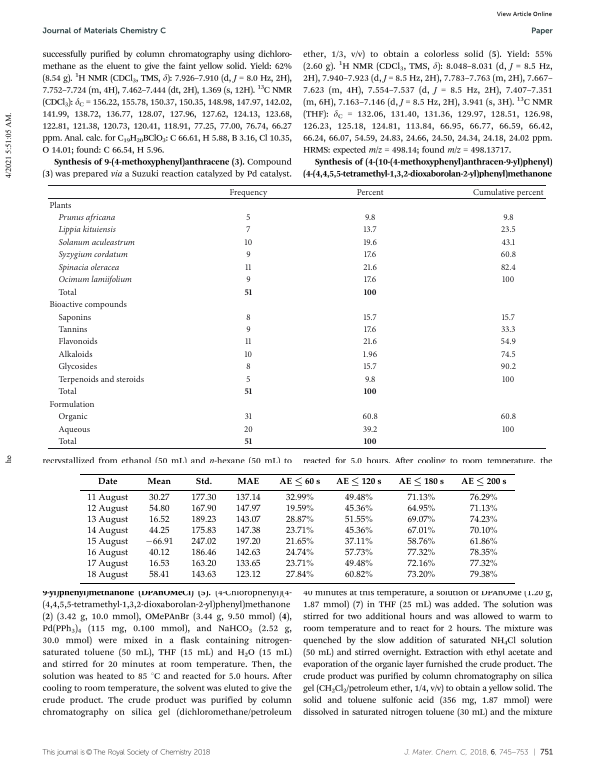borderless: (46, 183, 546, 448), (79, 472, 515, 583)
cell: (57, 374, 145, 385), (48, 299, 128, 310), (57, 237, 136, 248), (57, 274, 133, 285), (472, 187, 545, 198), (57, 250, 129, 260), (57, 262, 120, 273), (57, 212, 116, 223), (57, 225, 117, 235), (48, 399, 95, 410), (335, 477, 382, 487), (397, 477, 444, 487), (460, 477, 507, 487), (86, 493, 128, 504), (86, 504, 128, 515), (86, 515, 128, 526), (86, 526, 128, 537), (86, 537, 128, 548), (86, 548, 128, 559), (86, 559, 128, 570), (86, 570, 128, 581), (278, 477, 321, 487), (229, 187, 268, 198), (57, 337, 99, 347), (57, 362, 98, 372), (57, 349, 94, 360), (57, 424, 91, 435), (57, 411, 89, 422), (57, 312, 92, 322), (57, 324, 88, 335), (343, 493, 373, 504), (406, 493, 436, 504), (468, 493, 498, 504), (343, 504, 373, 515), (406, 504, 436, 515), (468, 504, 498, 515), (343, 515, 373, 526), (406, 515, 436, 526), (468, 515, 498, 526), (343, 526, 373, 537), (406, 526, 436, 537), (468, 526, 498, 537), (144, 537, 174, 548), (343, 537, 373, 548), (406, 537, 436, 548), (468, 537, 498, 548), (343, 548, 373, 559), (406, 548, 436, 559), (468, 548, 498, 559), (343, 559, 373, 570), (406, 559, 436, 570), (468, 559, 498, 570), (343, 570, 373, 581), (406, 570, 436, 581), (468, 570, 498, 581), (285, 493, 314, 504), (285, 504, 314, 515), (285, 515, 314, 526), (285, 526, 314, 537), (285, 537, 314, 548), (285, 548, 314, 559), (285, 559, 314, 570), (285, 570, 314, 581), (356, 187, 385, 198), (190, 493, 217, 504), (234, 493, 261, 504), (190, 504, 217, 515), (234, 504, 261, 515), (190, 515, 217, 526), (234, 515, 261, 526), (190, 526, 217, 537), (234, 526, 261, 537), (190, 537, 217, 548), (234, 537, 261, 548), (190, 548, 217, 559), (234, 548, 261, 559), (190, 559, 217, 570), (234, 559, 261, 570), (190, 570, 217, 581), (234, 570, 261, 581), (148, 493, 170, 504), (148, 504, 170, 515), (148, 515, 170, 526), (148, 526, 170, 537), (148, 548, 170, 559), (148, 559, 170, 570), (148, 570, 170, 581), (48, 200, 72, 210), (57, 287, 78, 298), (57, 436, 78, 447), (57, 387, 78, 397), (146, 477, 172, 485), (500, 262, 517, 273), (500, 349, 517, 360), (362, 411, 379, 422), (500, 411, 517, 422), (236, 477, 259, 485), (96, 477, 118, 485), (362, 237, 378, 248), (362, 262, 378, 273), (500, 324, 516, 335), (362, 349, 378, 360), (362, 424, 378, 435), (500, 225, 517, 235), (500, 250, 517, 260), (500, 337, 517, 347), (500, 362, 517, 372), (501, 237, 516, 248), (362, 337, 378, 347), (363, 274, 377, 285), (501, 274, 515, 285), (363, 324, 377, 335), (501, 374, 515, 385), (501, 424, 515, 435), (363, 225, 378, 235), (363, 312, 378, 322), (501, 312, 516, 322), (363, 362, 378, 372), (194, 477, 212, 485), (502, 212, 515, 223), (363, 250, 377, 260), (363, 436, 378, 445), (364, 212, 376, 223), (364, 374, 376, 385), (243, 424, 254, 435), (363, 287, 378, 295), (363, 387, 378, 395), (244, 237, 253, 248), (244, 349, 253, 360), (244, 411, 253, 422), (244, 262, 252, 273), (244, 436, 253, 445), (244, 337, 252, 347), (245, 274, 252, 285), (245, 324, 252, 335), (244, 287, 253, 295), (244, 387, 253, 395), (245, 250, 252, 260), (245, 312, 252, 322), (245, 362, 252, 372), (245, 212, 251, 223), (245, 374, 251, 385), (245, 225, 251, 235)
